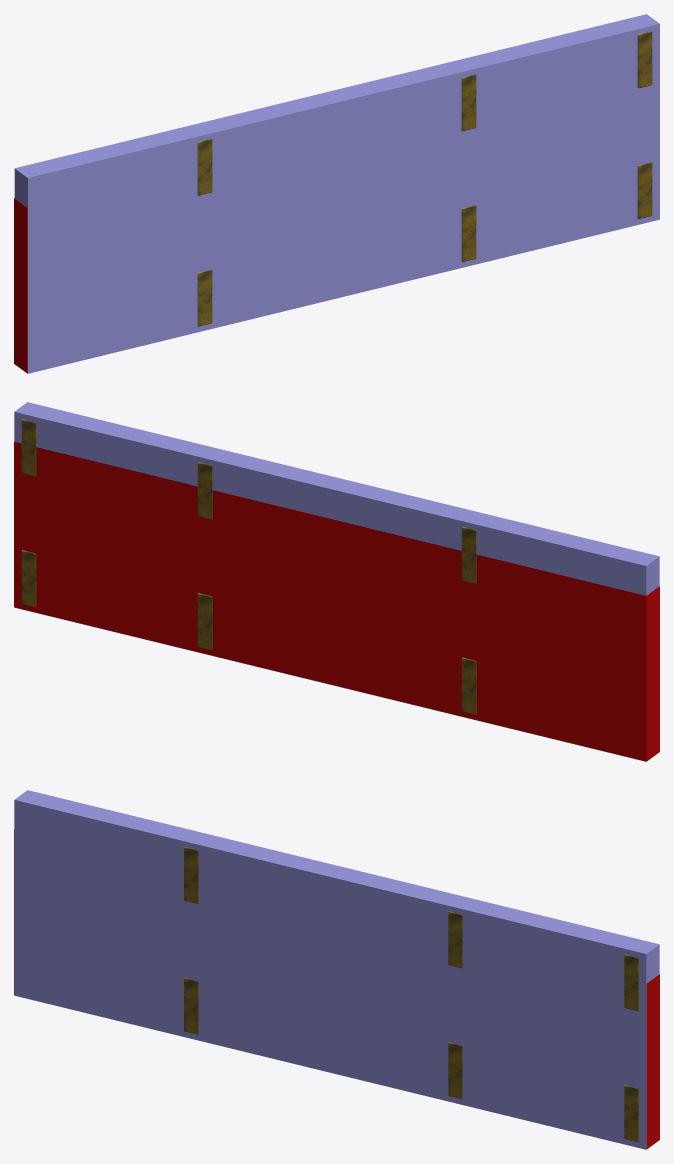
File: SciFi_walkway_01_rail_long.DAE
3 renders of one model, top to bottom at view 1: azimuth 30°, elevation 25°; view 2: azimuth 150°, elevation 25°; view 3: azimuth 330°, elevation 25°, orthographic.
Parts seen in each view (by area): view 1: bounds, walkway_one_rail_long, colbox-01; view 2: colbox-01, bounds, walkway_one_rail_long; view 3: bounds, walkway_one_rail_long, colbox-01.
Boxes of the visible parts, <box> form: bounds: <box>14,14,659,373</box>; walkway_one_rail_long: <box>197,31,652,326</box>; colbox-01: <box>14,198,27,373</box>; colbox-01: <box>14,441,659,761</box>; bounds: <box>14,402,659,761</box>; walkway_one_rail_long: <box>21,419,476,714</box>; bounds: <box>14,790,659,1149</box>; walkway_one_rail_long: <box>184,847,638,1142</box>; colbox-01: <box>14,829,659,1148</box>.
Bounding box in the file's own units: 719 × 27.48 × 213.
